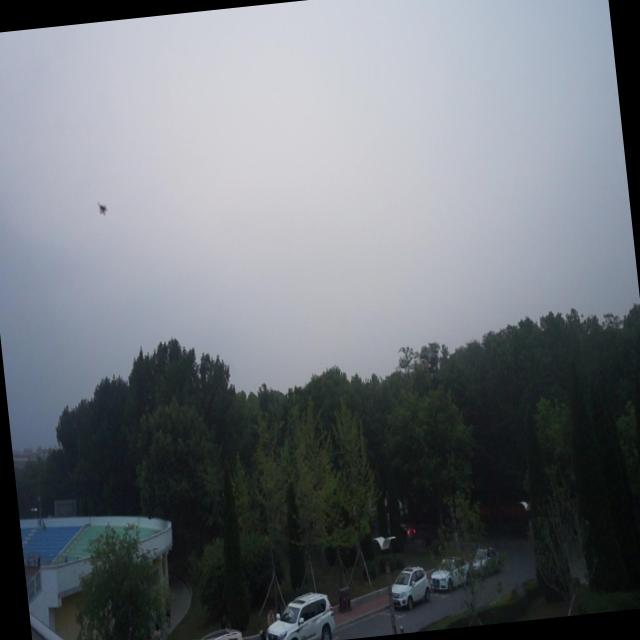drone: (93, 198, 109, 218)
